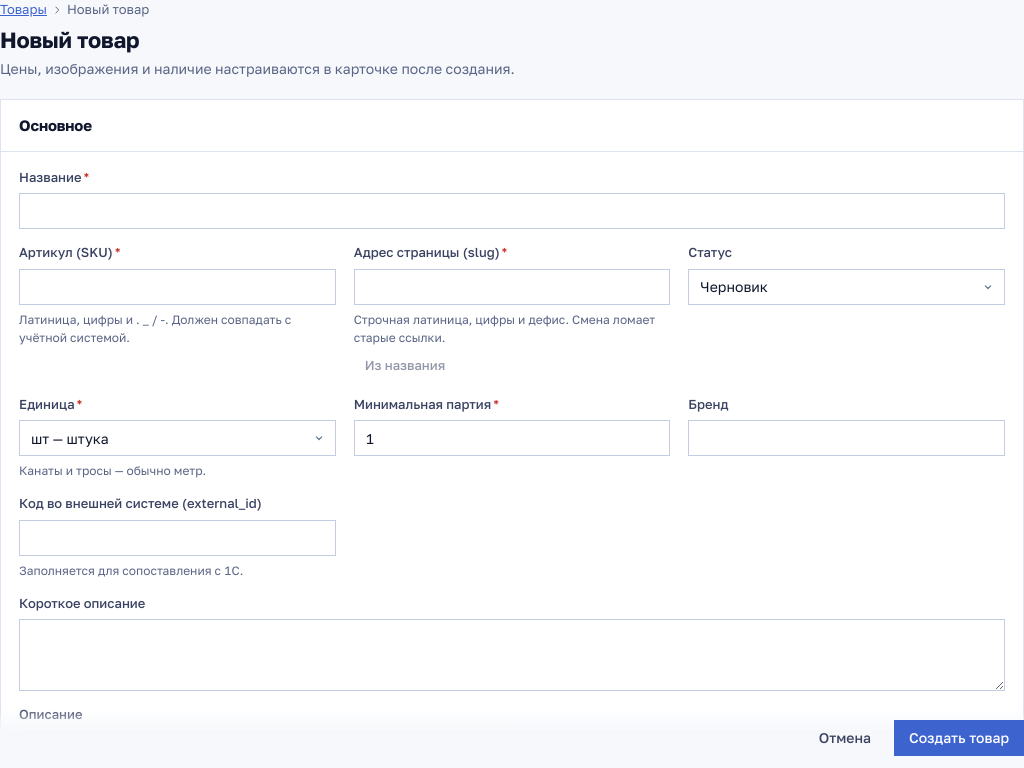
Test: создание товара › 409 «артикул занят» показывается у поля артикула
Expected: the heading "Новый товар" is shown, [0,26,139,52]
In the field labelled "Название*": (512, 211) [19,193,1005,229], type "Канат"
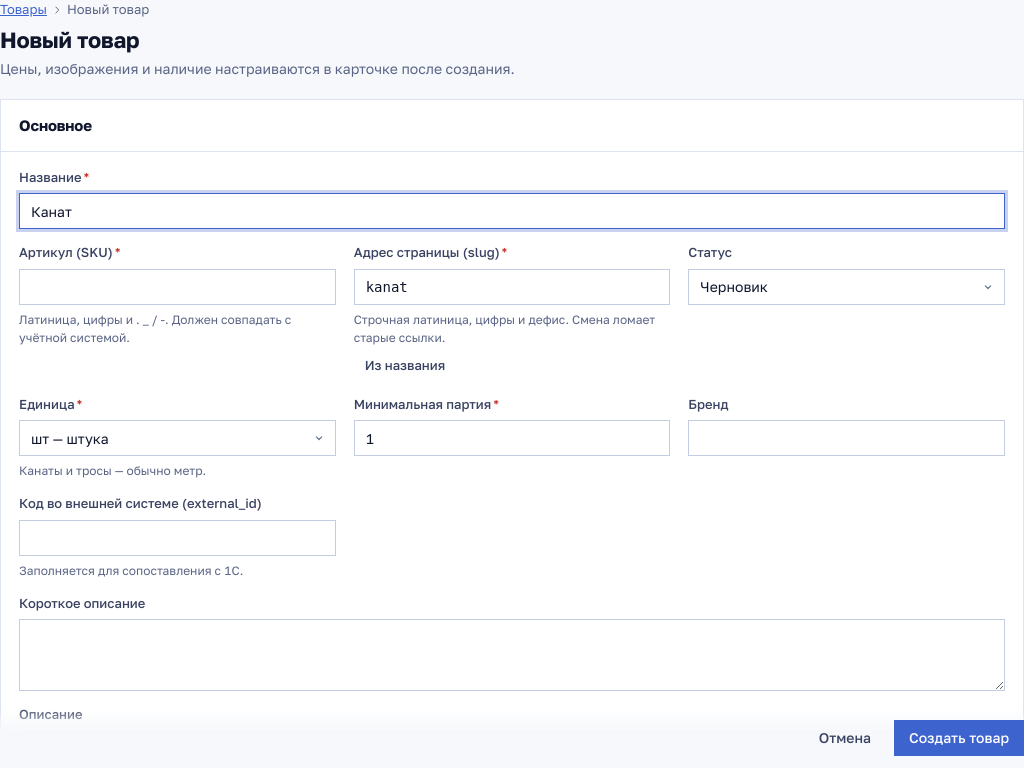
In the field labelled "Артикул (SKU)*": (177, 287) [19,269,336,305], type "KAN-16"
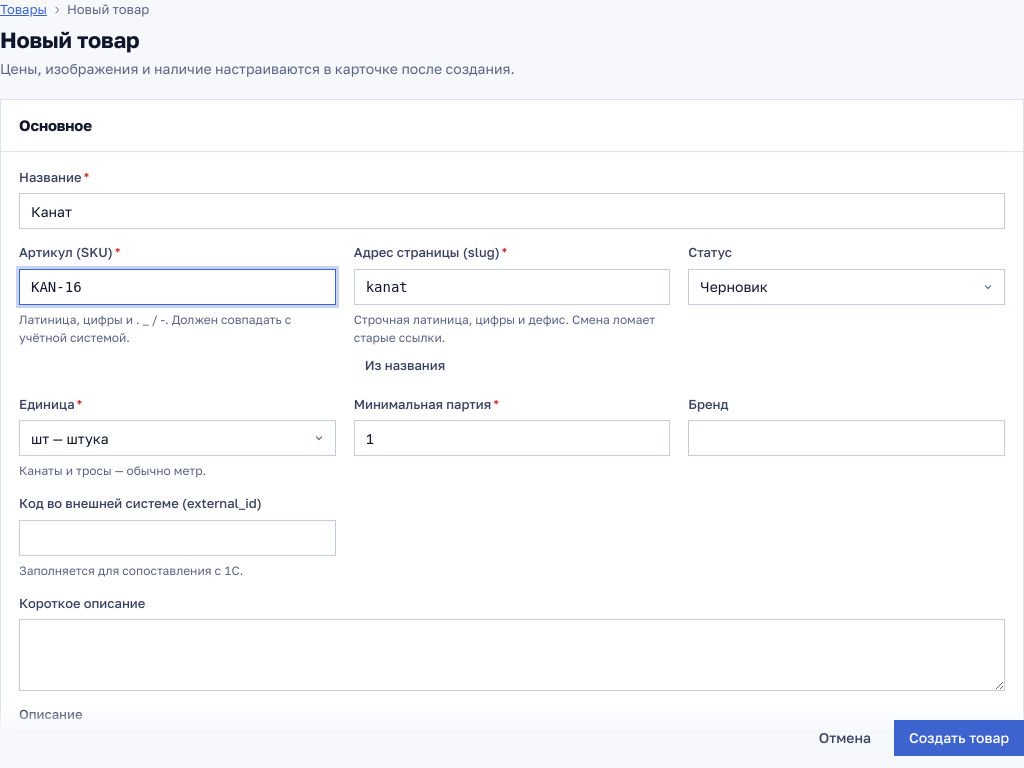
Click the button "Создать товар": (959, 738) [894,720,1023,756]
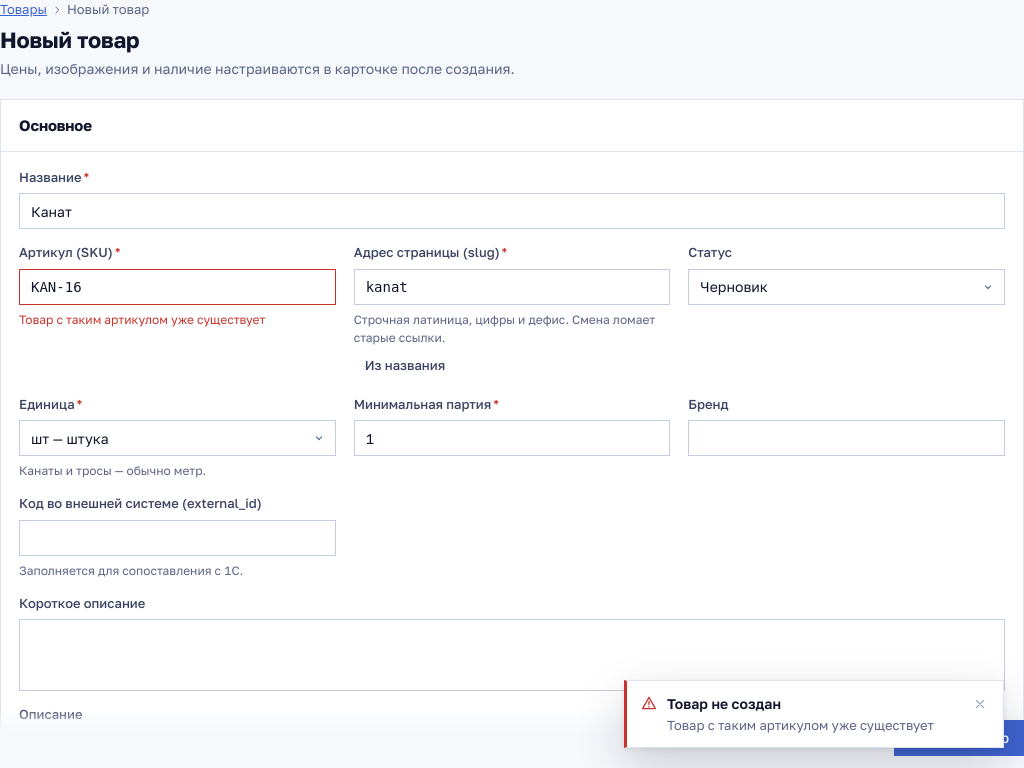
Expected: the text "Товар с таким артикулом уже существует" is shown, [19,312,265,327]
